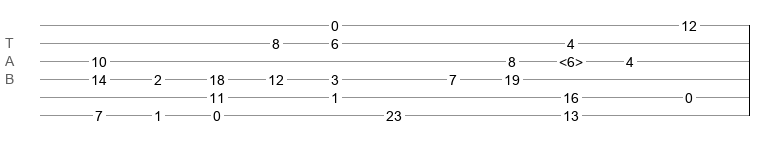0: (213, 108, 221, 118), (331, 18, 339, 28), (685, 90, 693, 100)
1: (154, 108, 162, 118), (331, 90, 339, 100)
10: (91, 54, 107, 64)
11: (209, 90, 225, 100)
12: (268, 72, 284, 82), (681, 18, 697, 28)
13: (563, 108, 579, 118)
14: (91, 72, 107, 82)
16: (563, 90, 579, 100)
18: (209, 72, 225, 82)
19: (504, 72, 520, 82)
2: (154, 72, 162, 82)
23: (386, 108, 402, 118)
3: (331, 72, 339, 82)
4: (567, 36, 575, 46), (626, 54, 634, 64)
6: (331, 36, 339, 46)
7: (95, 108, 103, 118), (449, 72, 457, 82)
8: (272, 36, 280, 46), (508, 54, 516, 64)
harmonic: (559, 54, 583, 64)
